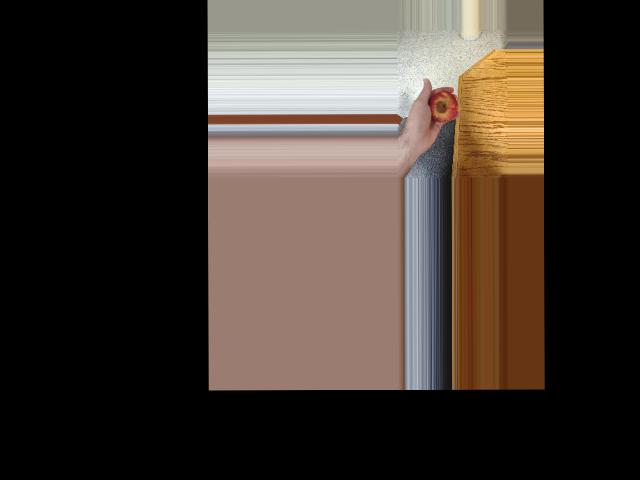apple: (426, 89, 457, 128)
